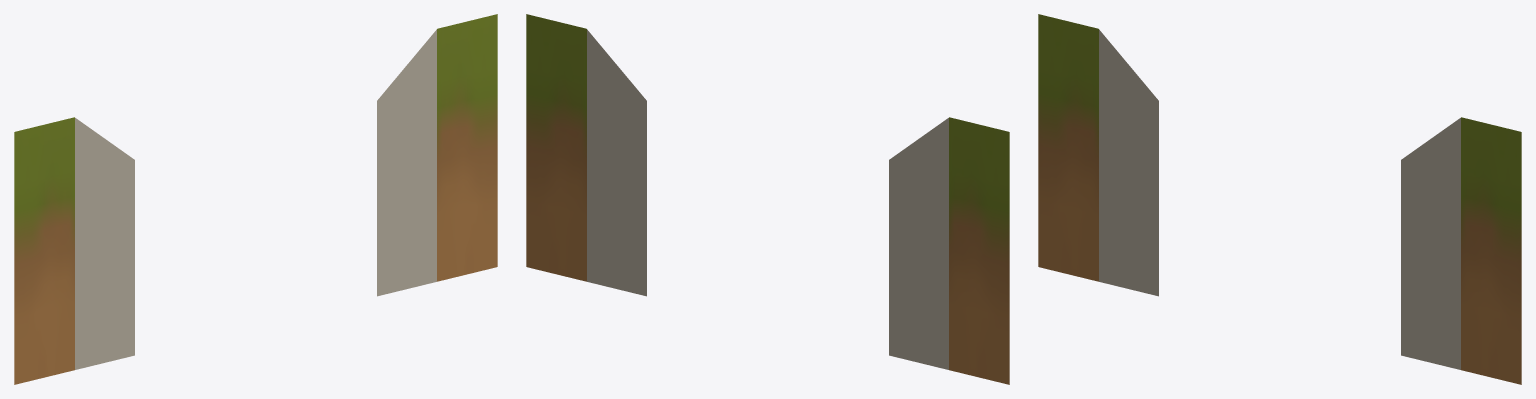
The model's file is Grid_Cell_Water_Border.DAE.
3 renders of one model, left to right at view 1: azimuth 30°, elevation 25°; view 2: azimuth 150°, elevation 25°; view 3: azimuth 330°, elevation 25°, orthographic.
Visible parts, largest first — view 1: Border; view 2: Border; view 3: Border.
Part boxes in pixels (x1,y1,x2,y2): Border: (14, 14, 497, 384); Border: (526, 14, 1009, 384); Border: (1038, 14, 1521, 384).
Size of the model in its own units: 2 by 1 by 1e-06.
